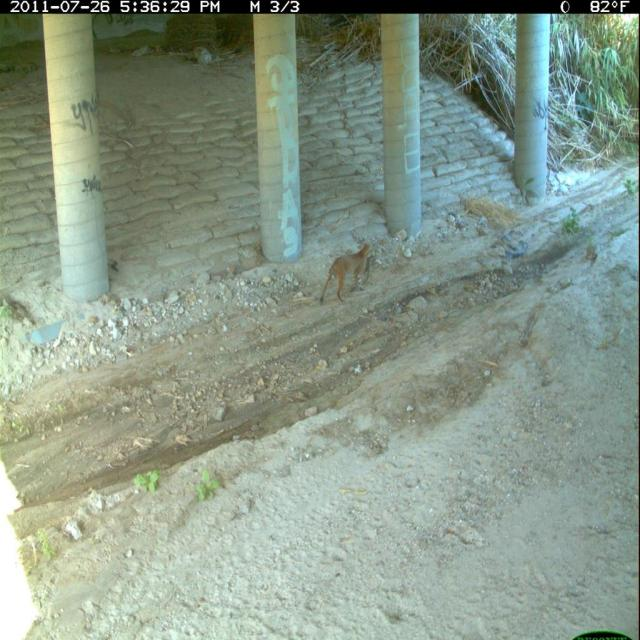bobcat: (316, 237, 379, 308)
rabbit: (365, 250, 376, 286)
